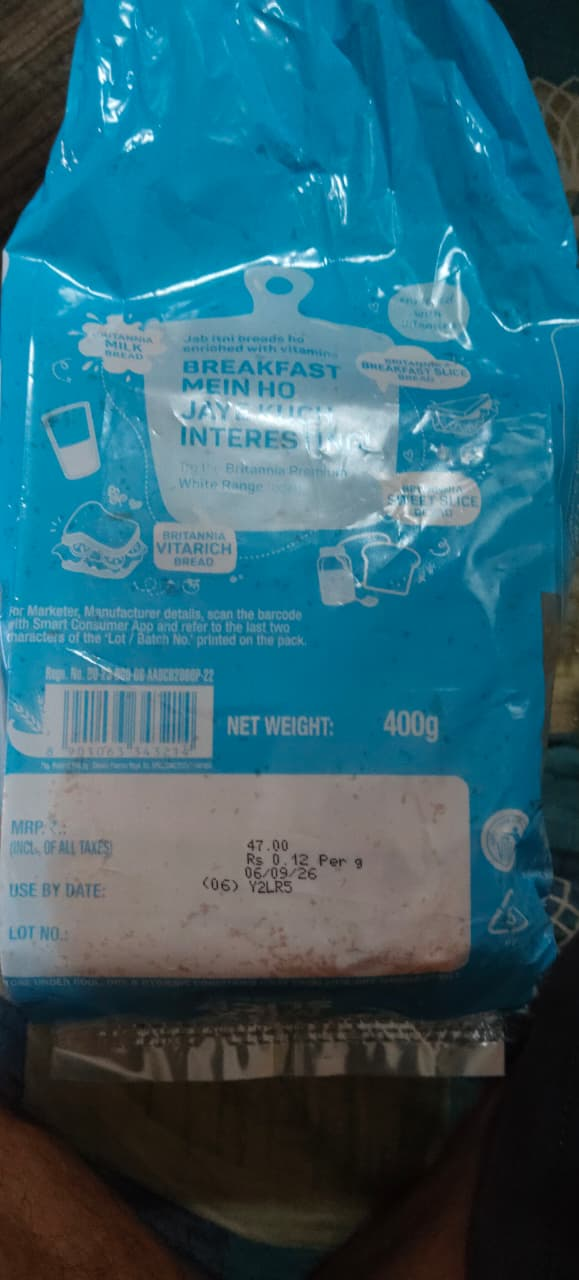manufacturer: (4, 863, 358, 903)
mrp: (8, 820, 295, 854)
net_qty: (220, 695, 471, 751)
